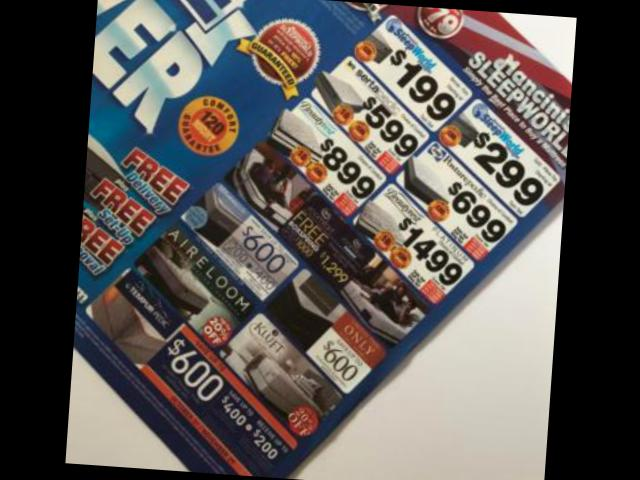cardboard paper: (73, 0, 572, 478)
